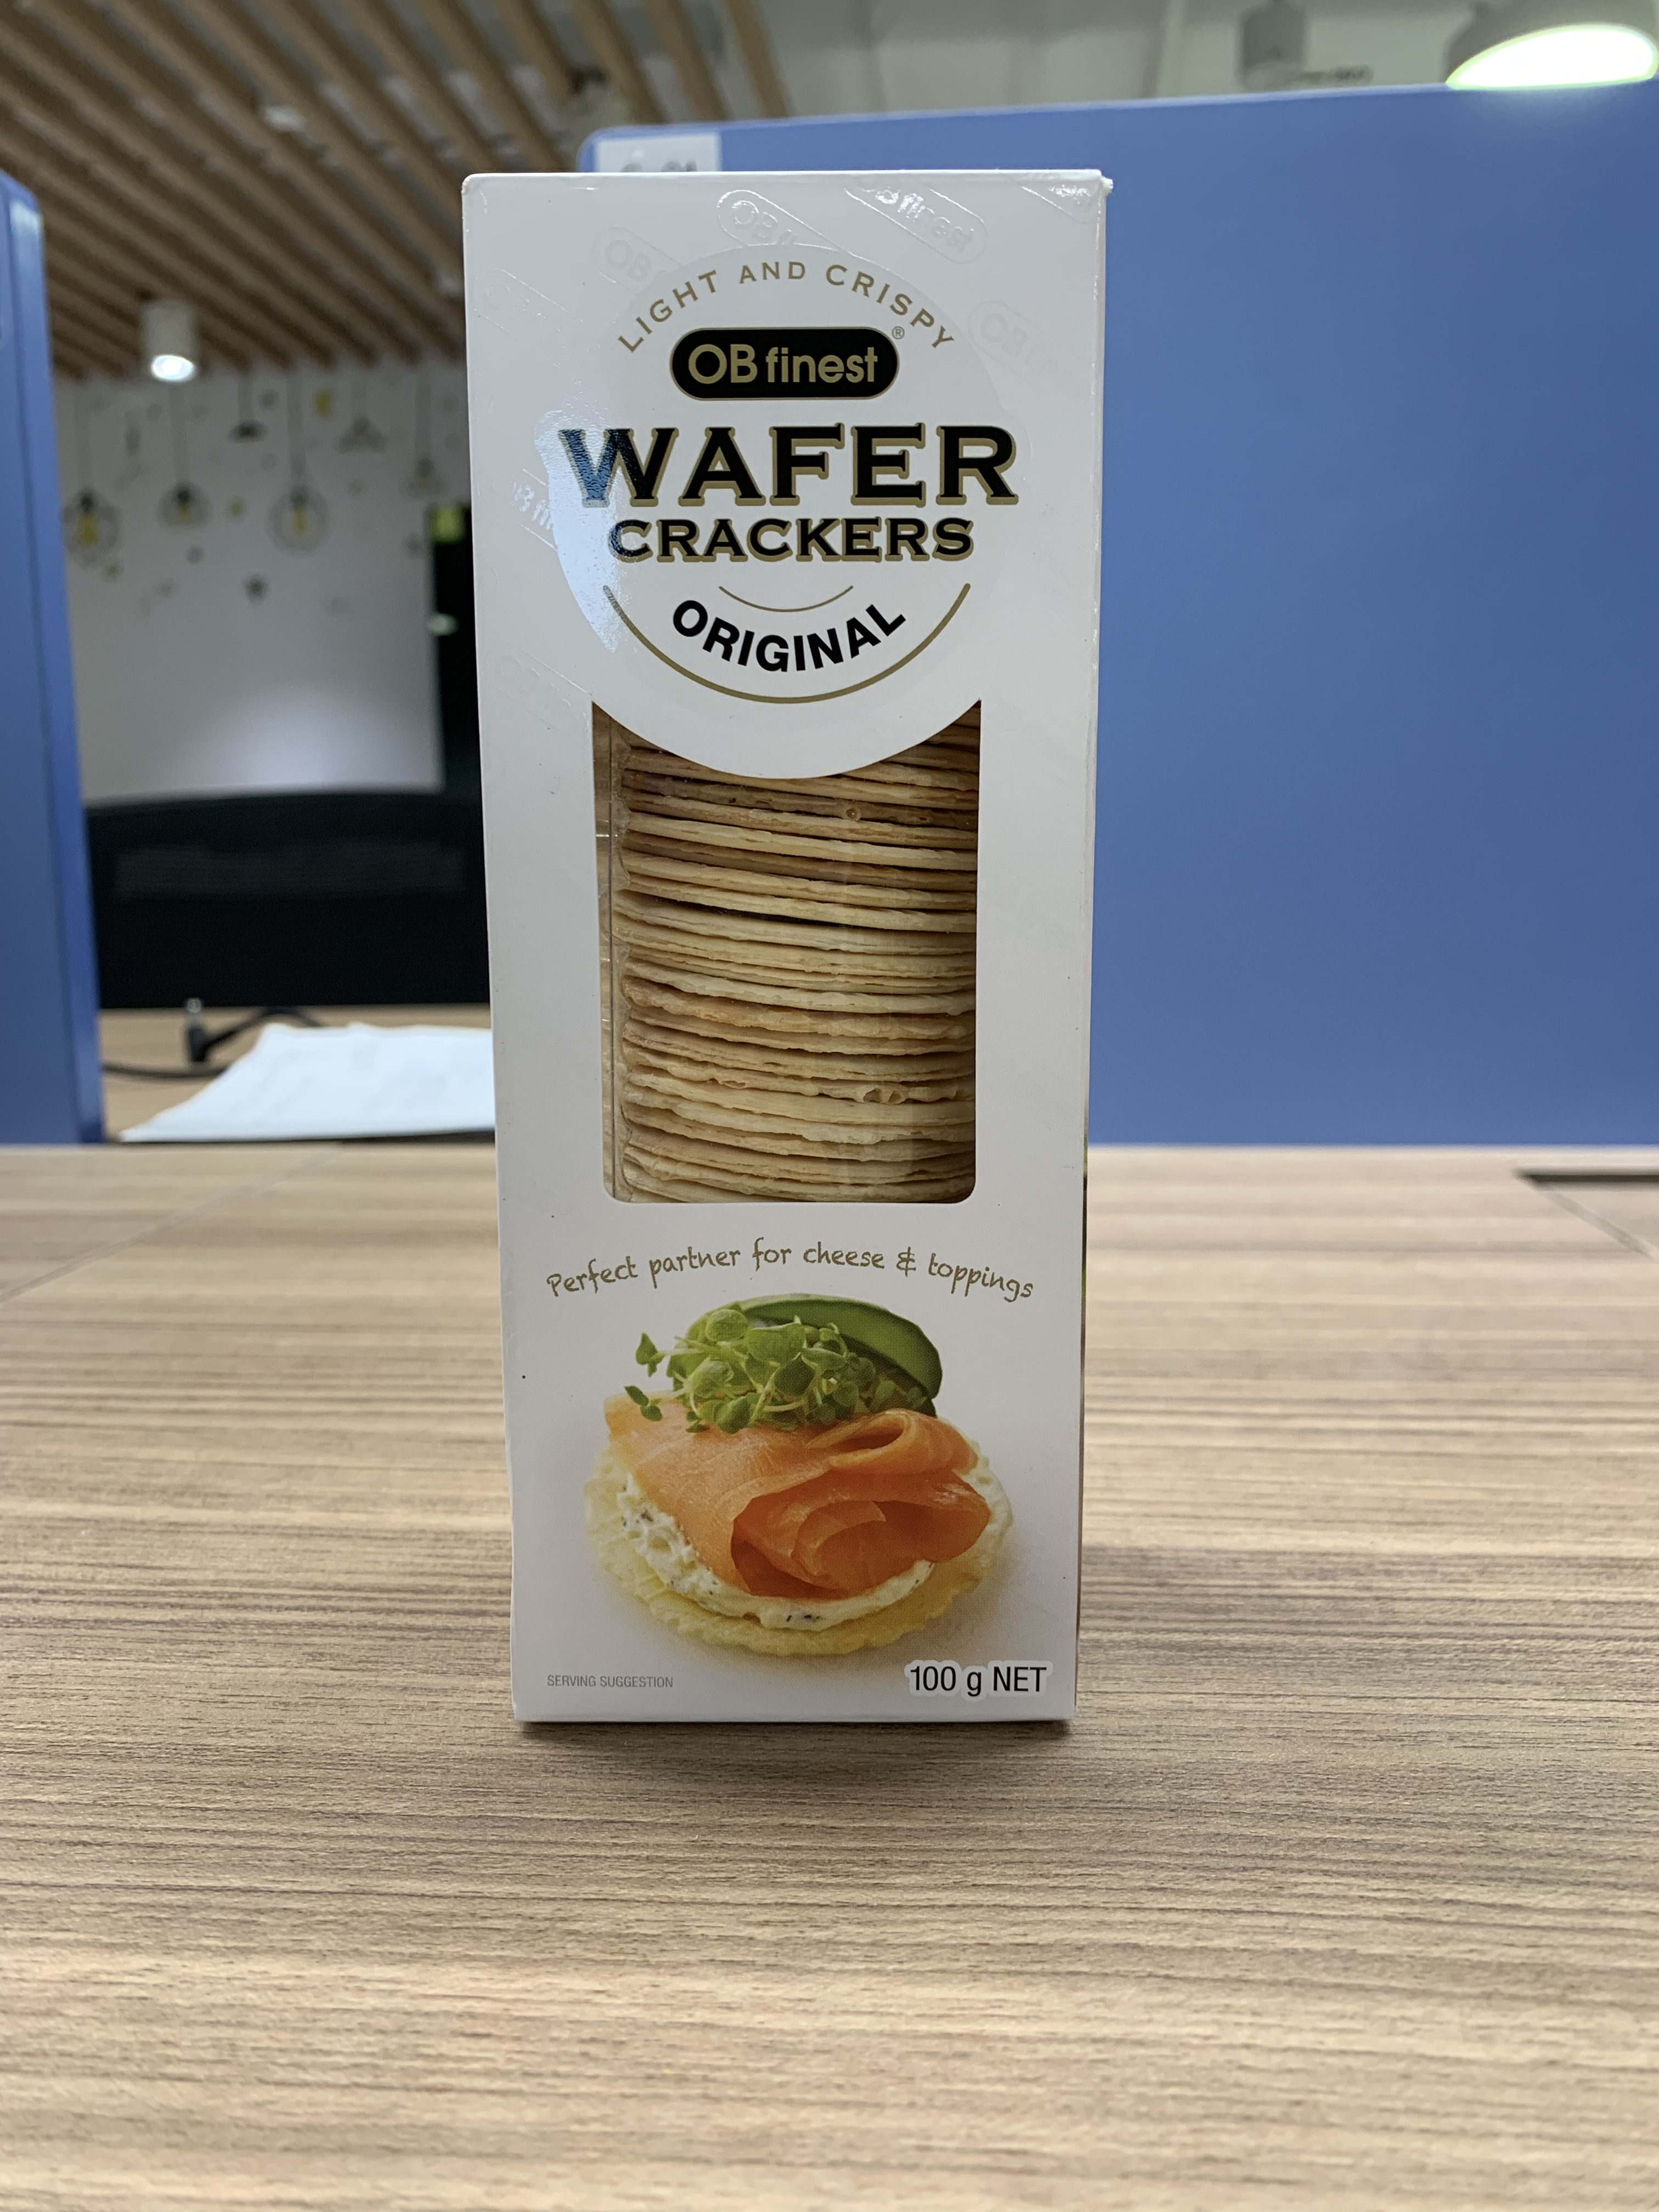crackers_100g-199g: (488, 221, 1068, 1707)
